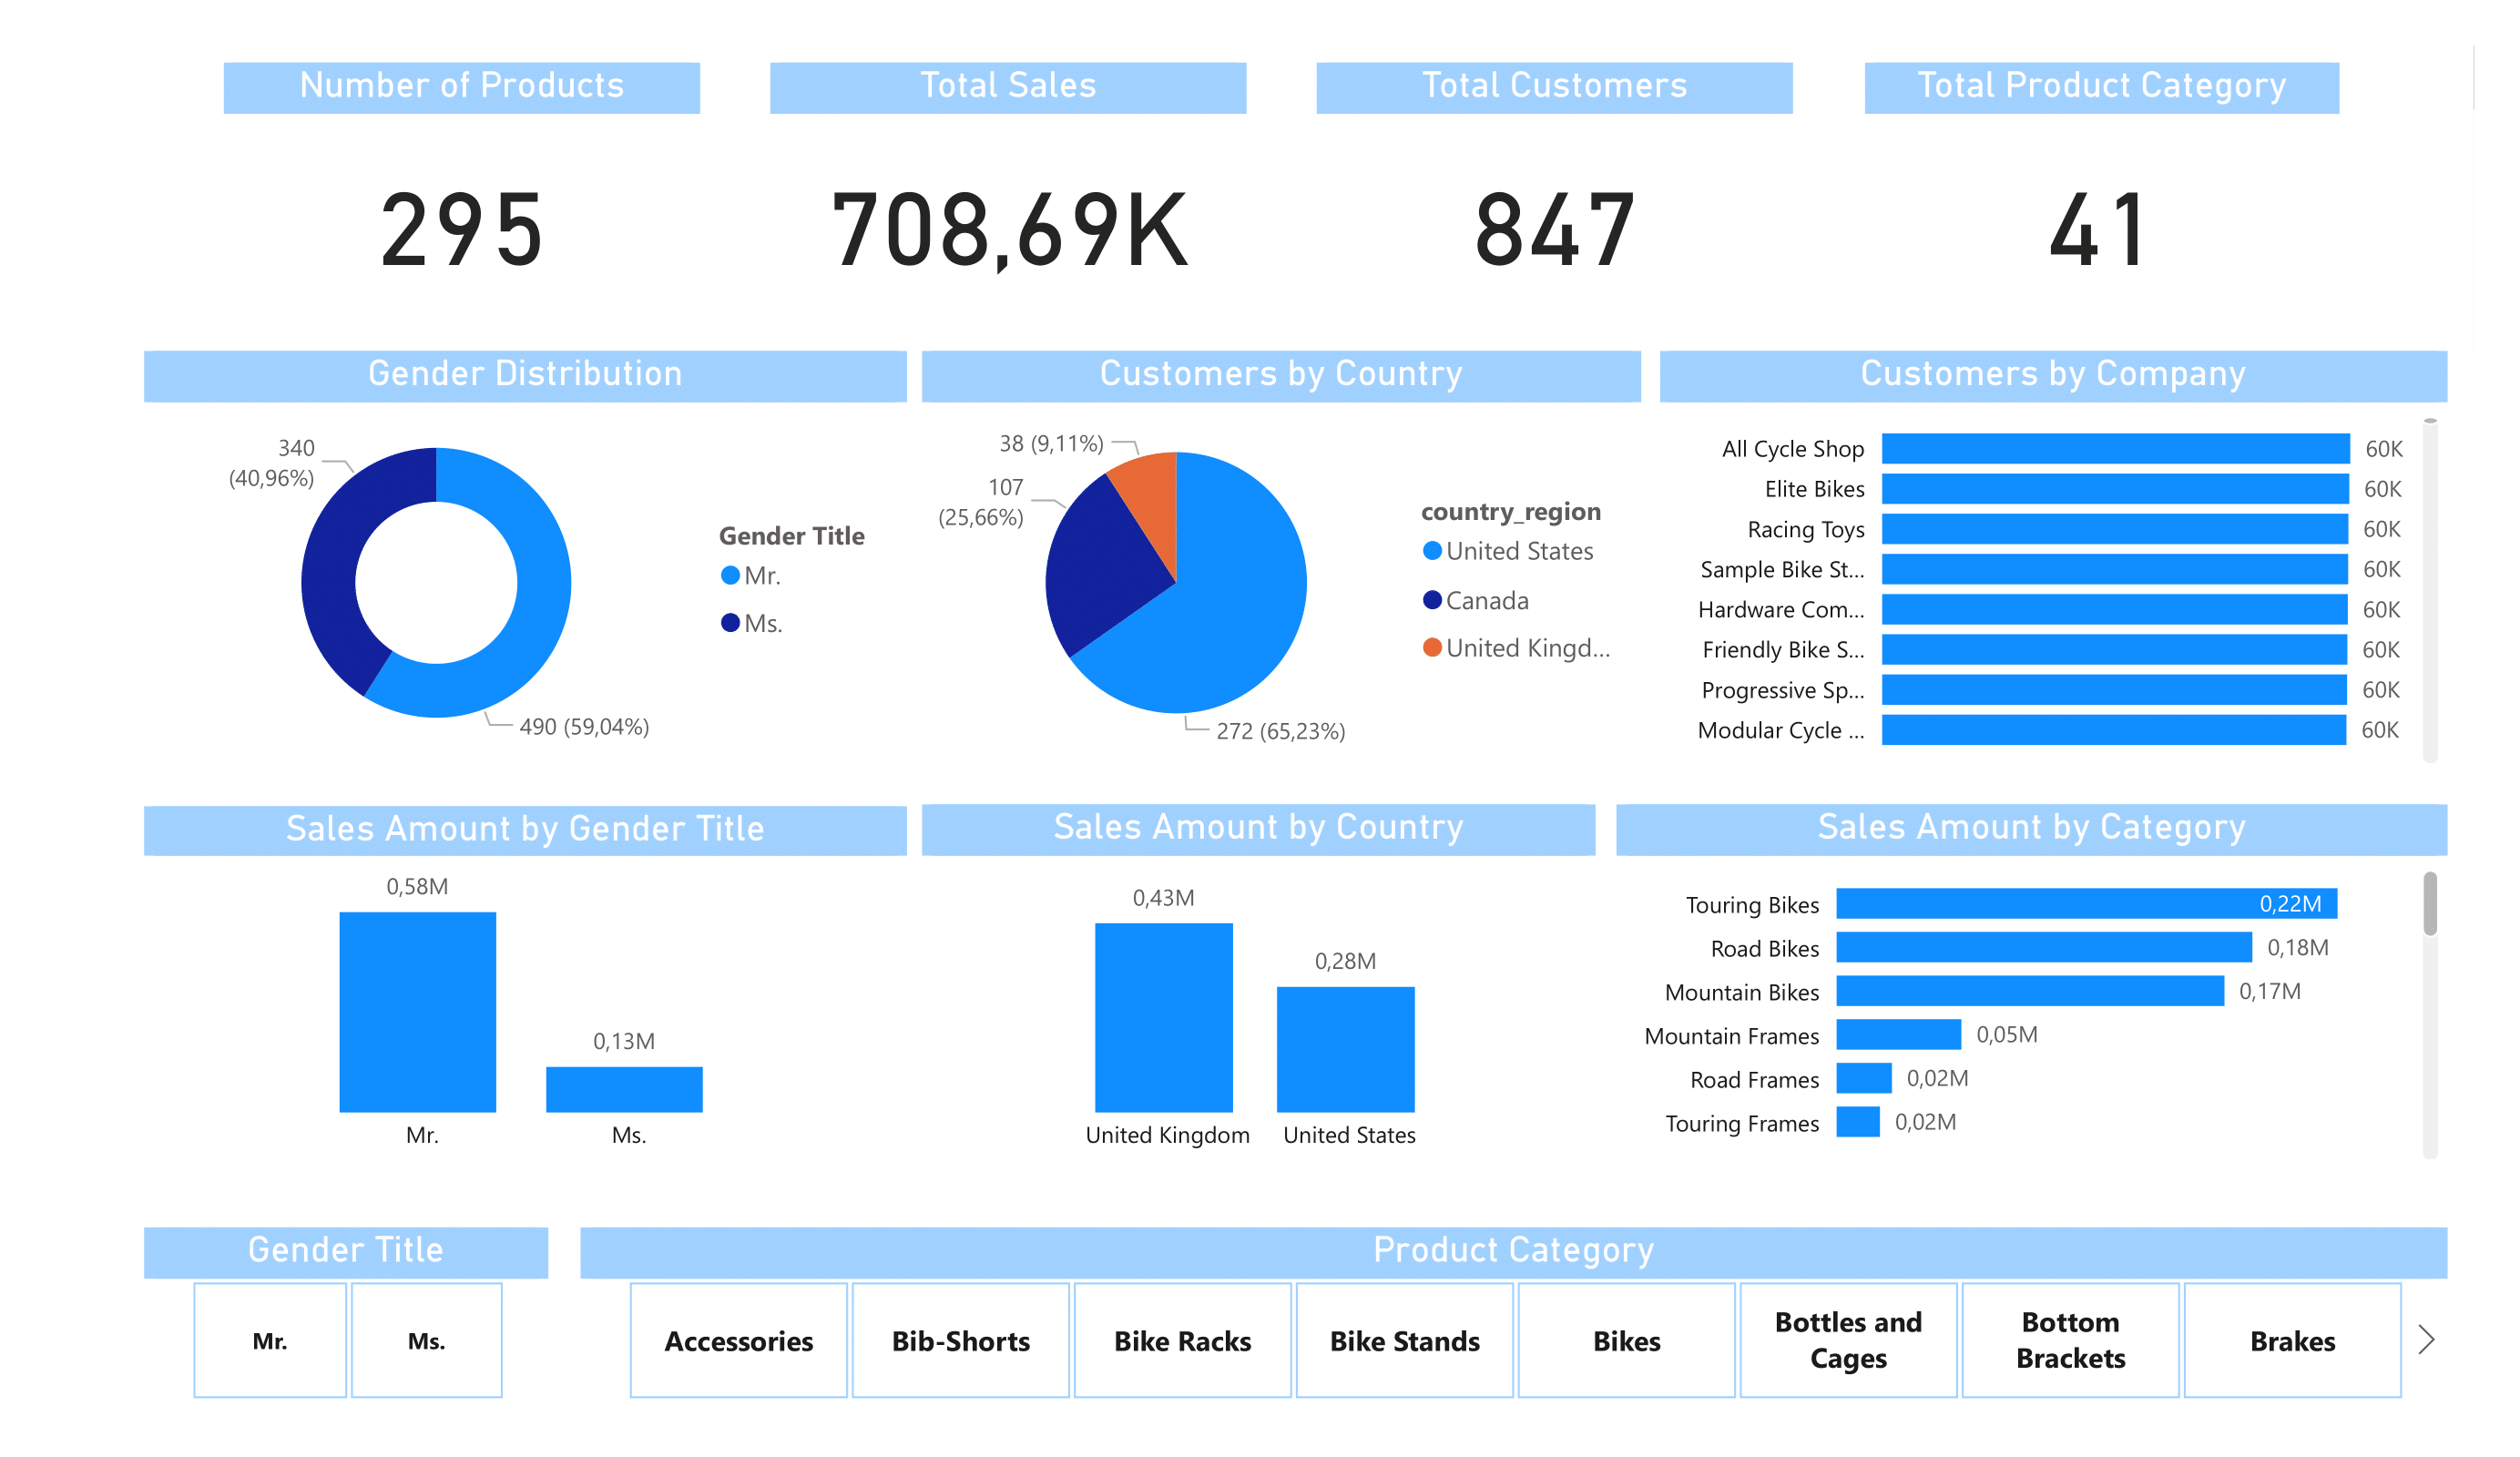

What the dashboard file says about the page in this screenshot:
{"tool":"powerbi","page":{"name":"1. sayfa","canvas":[1280,720],"ordinal":0},"visuals":[{"type":"card","title":"Number of Products","fields":{"Values":["CountNonNull(Product.product_id)"]},"box":[94.2,8.9,250.5,139],"z":0},{"type":"card","title":"Total Sales","fields":{"Values":["Sum(SalesOrderDetail.line_total)"]},"box":[382.3,8.9,250.5,139],"z":1000},{"type":"donutChart","title":"Gender Distribution","fields":{"Y":["CountNonNull(Customer.title)"],"Series":["Customer.title"]},"box":[52.5,161.3,401.4,221.7],"z":2000},{"type":"slicer","title":"Gender Title","fields":{"Values":["Customer.title"]},"box":[52.5,623.1,212.5,97.1],"z":3000},{"type":"slicer","title":"Product Category","fields":{"Values":["ProductCategory.name"]},"box":[282,623.1,983.8,97.1],"z":4000},{"type":"clusteredColumnChart","title":"Sales Amount by Gender Title","fields":{"Y":["Sum(SalesOrderDetail.line_total)"],"Category":["Customer.title"]},"box":[51.9,400.5,401.7,191.8],"z":5000},{"type":"card","title":"Total Customers","fields":{"Values":["CountNonNull(Customer.customer_id)"]},"box":[670.5,8.9,250.5,139],"z":6000},{"type":"card","title":"Total Product Category","fields":{"Values":["CountNonNull(ProductCategory.product_category_id)"]},"box":[958.6,8.9,250.5,139],"z":7000},{"type":"columnChart","title":"Sales Amount by Country","fields":{"Y":["Sum(SalesOrderDetail.line_total)"],"Category":["Address.country_region"]},"box":[461.7,400.1,355.5,191.5],"z":8000},{"type":"barChart","title":"Sales Amount by Category","fields":{"Y":["Sum(SalesOrderDetail.line_total)"],"Category":["ProductCategory.name"]},"box":[827.7,400.1,438.1,191.5],"z":9000},{"type":"pieChart","title":"Customers by Country","fields":{"Category":["Address.country_region"],"Y":["CountNonNull(CustomerAddress.customer_id)"]},"box":[461.7,161.3,379.1,221.7],"z":10000},{"type":"barChart","title":"Customers by Company","fields":{"Category":["Customer.company_name"],"Y":["Sum(CustomerAddress.customer_id)"]},"box":[851.3,161.3,414.5,221.7],"z":11000}]}

Visuals, with their boxes on the page's 1280x720 design canvas (x1, y1, x2, y2). These are canvas units, not pixel positions in the 2520x1457 screenshot, which may show the page scaled, cropped or inside an application window:
"Number of Products" card: pyautogui.locateOnScreen(94, 9, 345, 148)
"Total Sales" card: pyautogui.locateOnScreen(382, 9, 633, 148)
"Gender Distribution" donutChart: pyautogui.locateOnScreen(52, 161, 454, 383)
"Gender Title" slicer: pyautogui.locateOnScreen(52, 623, 265, 720)
"Product Category" slicer: pyautogui.locateOnScreen(282, 623, 1266, 720)
"Sales Amount by Gender Title" clusteredColumnChart: pyautogui.locateOnScreen(52, 400, 454, 592)
"Total Customers" card: pyautogui.locateOnScreen(670, 9, 921, 148)
"Total Product Category" card: pyautogui.locateOnScreen(959, 9, 1209, 148)
"Sales Amount by Country" columnChart: pyautogui.locateOnScreen(462, 400, 817, 592)
"Sales Amount by Category" barChart: pyautogui.locateOnScreen(828, 400, 1266, 592)
"Customers by Country" pieChart: pyautogui.locateOnScreen(462, 161, 841, 383)
"Customers by Company" barChart: pyautogui.locateOnScreen(851, 161, 1266, 383)
